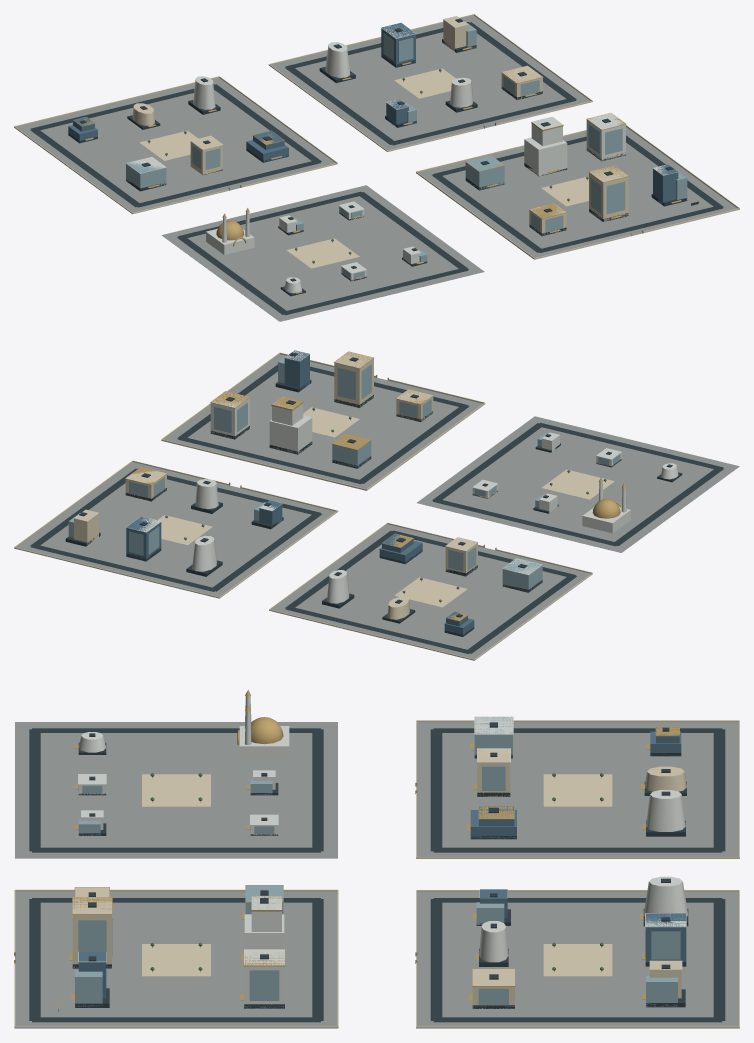
Rendered from GC-TILE-16-12.glb.
3 views of the same model, one above another, from view 1: azimuth 30°, elevation 25°; view 2: azimuth 150°, elevation 25°; view 3: azimuth 270°, elevation 25° (orthographic). The views are drawn at different scales.
Parts seen in each view (by area): view 1: GC-TILE-16-12-paving, GC-TILE-16-12-dark, GC-TILE-16-12-ivory, GC-TILE-16-12-white, GC-TILE-16-12-glass, GC-TILE-16-12-blue, GC-TILE-16-12-gold; view 2: GC-TILE-16-12-paving, GC-TILE-16-12-dark, GC-TILE-16-12-ivory, GC-TILE-16-12-white, GC-TILE-16-12-glass, GC-TILE-16-12-blue, GC-TILE-16-12-gold; view 3: GC-TILE-16-12-paving, GC-TILE-16-12-dark, GC-TILE-16-12-ivory, GC-TILE-16-12-white, GC-TILE-16-12-glass, GC-TILE-16-12-blue, GC-TILE-16-12-gold.
Boxes of the visible parts, box(x1,y1,x2,y2) form: GC-TILE-16-12-paving: box(16, 15, 737, 321); GC-TILE-16-12-dark: box(30, 18, 723, 315); GC-TILE-16-12-ivory: box(14, 14, 739, 268); GC-TILE-16-12-white: box(125, 16, 677, 293); GC-TILE-16-12-glass: box(126, 21, 687, 279); GC-TILE-16-12-blue: box(68, 23, 678, 205); GC-TILE-16-12-gold: box(73, 47, 698, 293); GC-TILE-16-12-paving: box(16, 354, 739, 659); GC-TILE-16-12-dark: box(30, 352, 723, 653); GC-TILE-16-12-ivory: box(14, 351, 614, 660); GC-TILE-16-12-white: box(74, 350, 678, 603); GC-TILE-16-12-glass: box(68, 355, 620, 591); GC-TILE-16-12-blue: box(126, 350, 474, 636); GC-TILE-16-12-gold: box(125, 351, 678, 621); GC-TILE-16-12-paving: box(15, 722, 738, 1026); GC-TILE-16-12-dark: box(29, 722, 725, 1022); GC-TILE-16-12-ivory: box(14, 720, 739, 1028); GC-TILE-16-12-white: box(78, 696, 687, 1008); GC-TILE-16-12-glass: box(75, 716, 680, 1007); GC-TILE-16-12-blue: box(78, 727, 686, 998); GC-TILE-16-12-gold: box(14, 690, 679, 1008).
Bounding box in the file's own units: 759 × 69.23 × 760.
